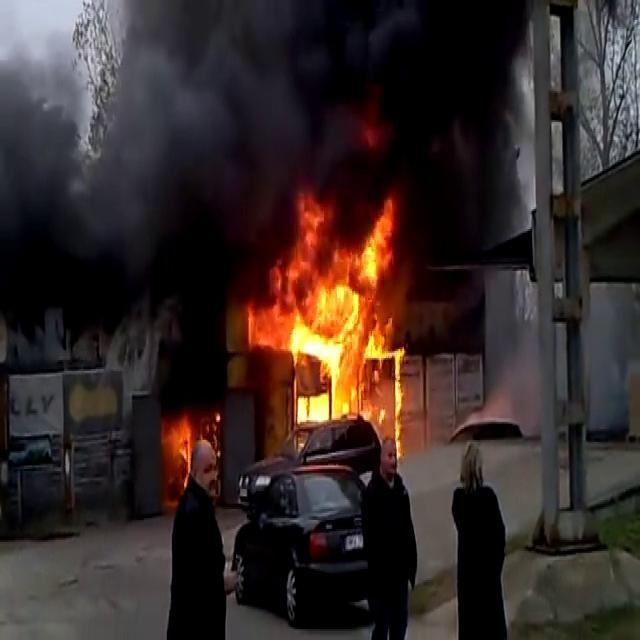Fire: (246, 184, 417, 448), (160, 402, 210, 502)
Smoke: (0, 1, 593, 284)
